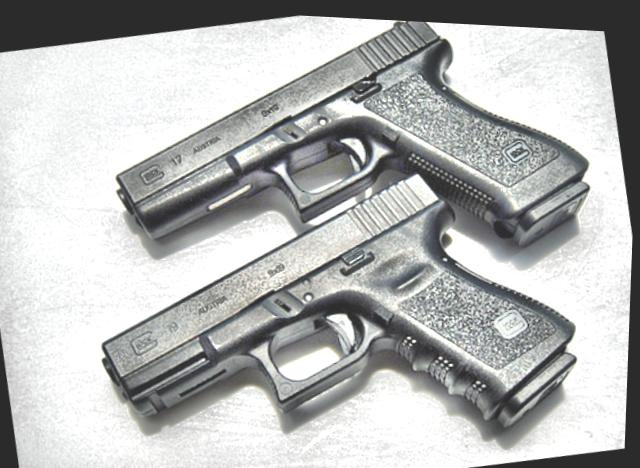pistol: (74, 128, 603, 468), (87, 4, 601, 311)
